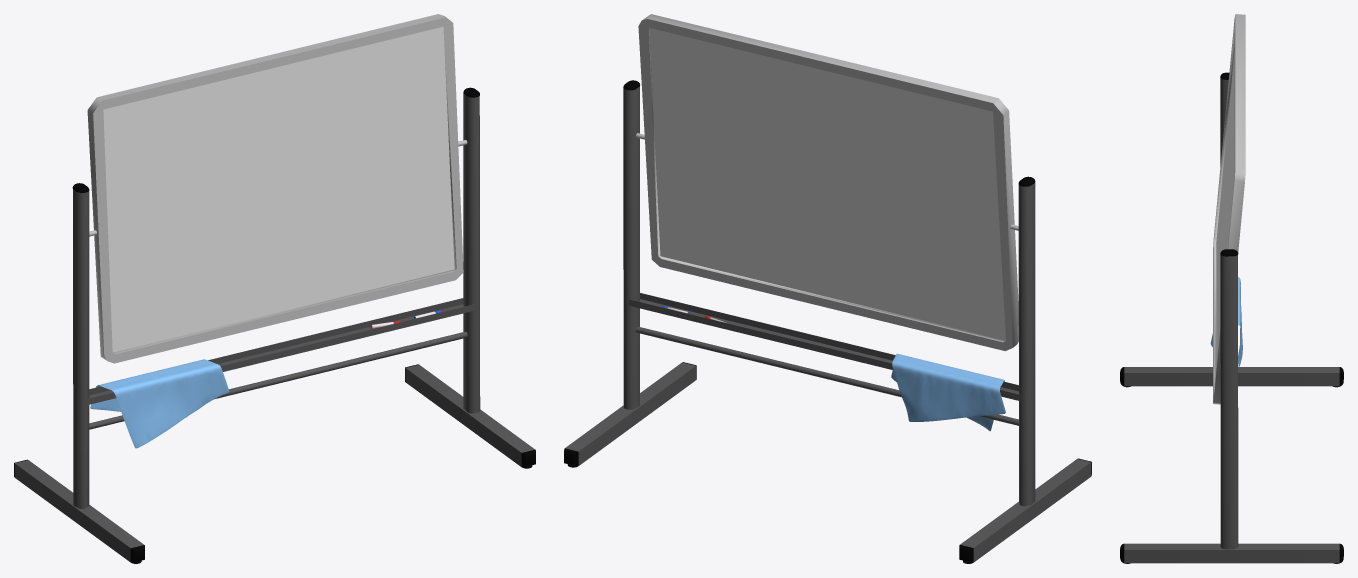
Rendered from whiteboard_standing.glb.
3 renders of one model, left to right at view 1: azimuth 30°, elevation 25°; view 2: azimuth 150°, elevation 25°; view 3: azimuth 270°, elevation 25°, orthographic. The views are drawn at different scales.
Parts seen in each view (by area): view 1: board_3, Object_4; view 2: board_3, Object_4; view 3: Object_4, board_3.
Boxes of the visible parts, x1,y1,x2,y2 form: board_3: [87, 14, 467, 363]; Object_4: [14, 87, 535, 563]; board_3: [636, 14, 1018, 351]; Object_4: [564, 80, 1091, 563]; Object_4: [1120, 72, 1343, 563]; board_3: [1213, 14, 1245, 404].
Bounding box in the file's own units: 8.28 × 8.07 × 4.28.
Materials: 1 (1 with a texture image).
